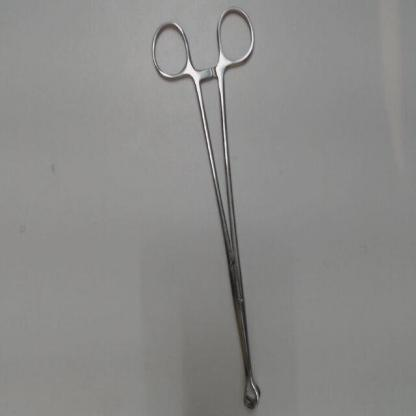8 Babcock Tissue Forceps: (142, 2, 268, 414)
